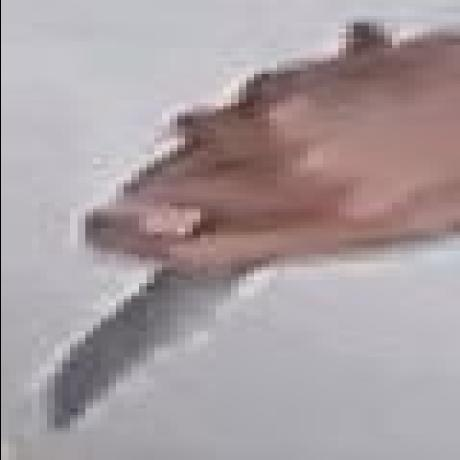1: (64, 12, 460, 282)
weapon: (33, 259, 284, 437)
